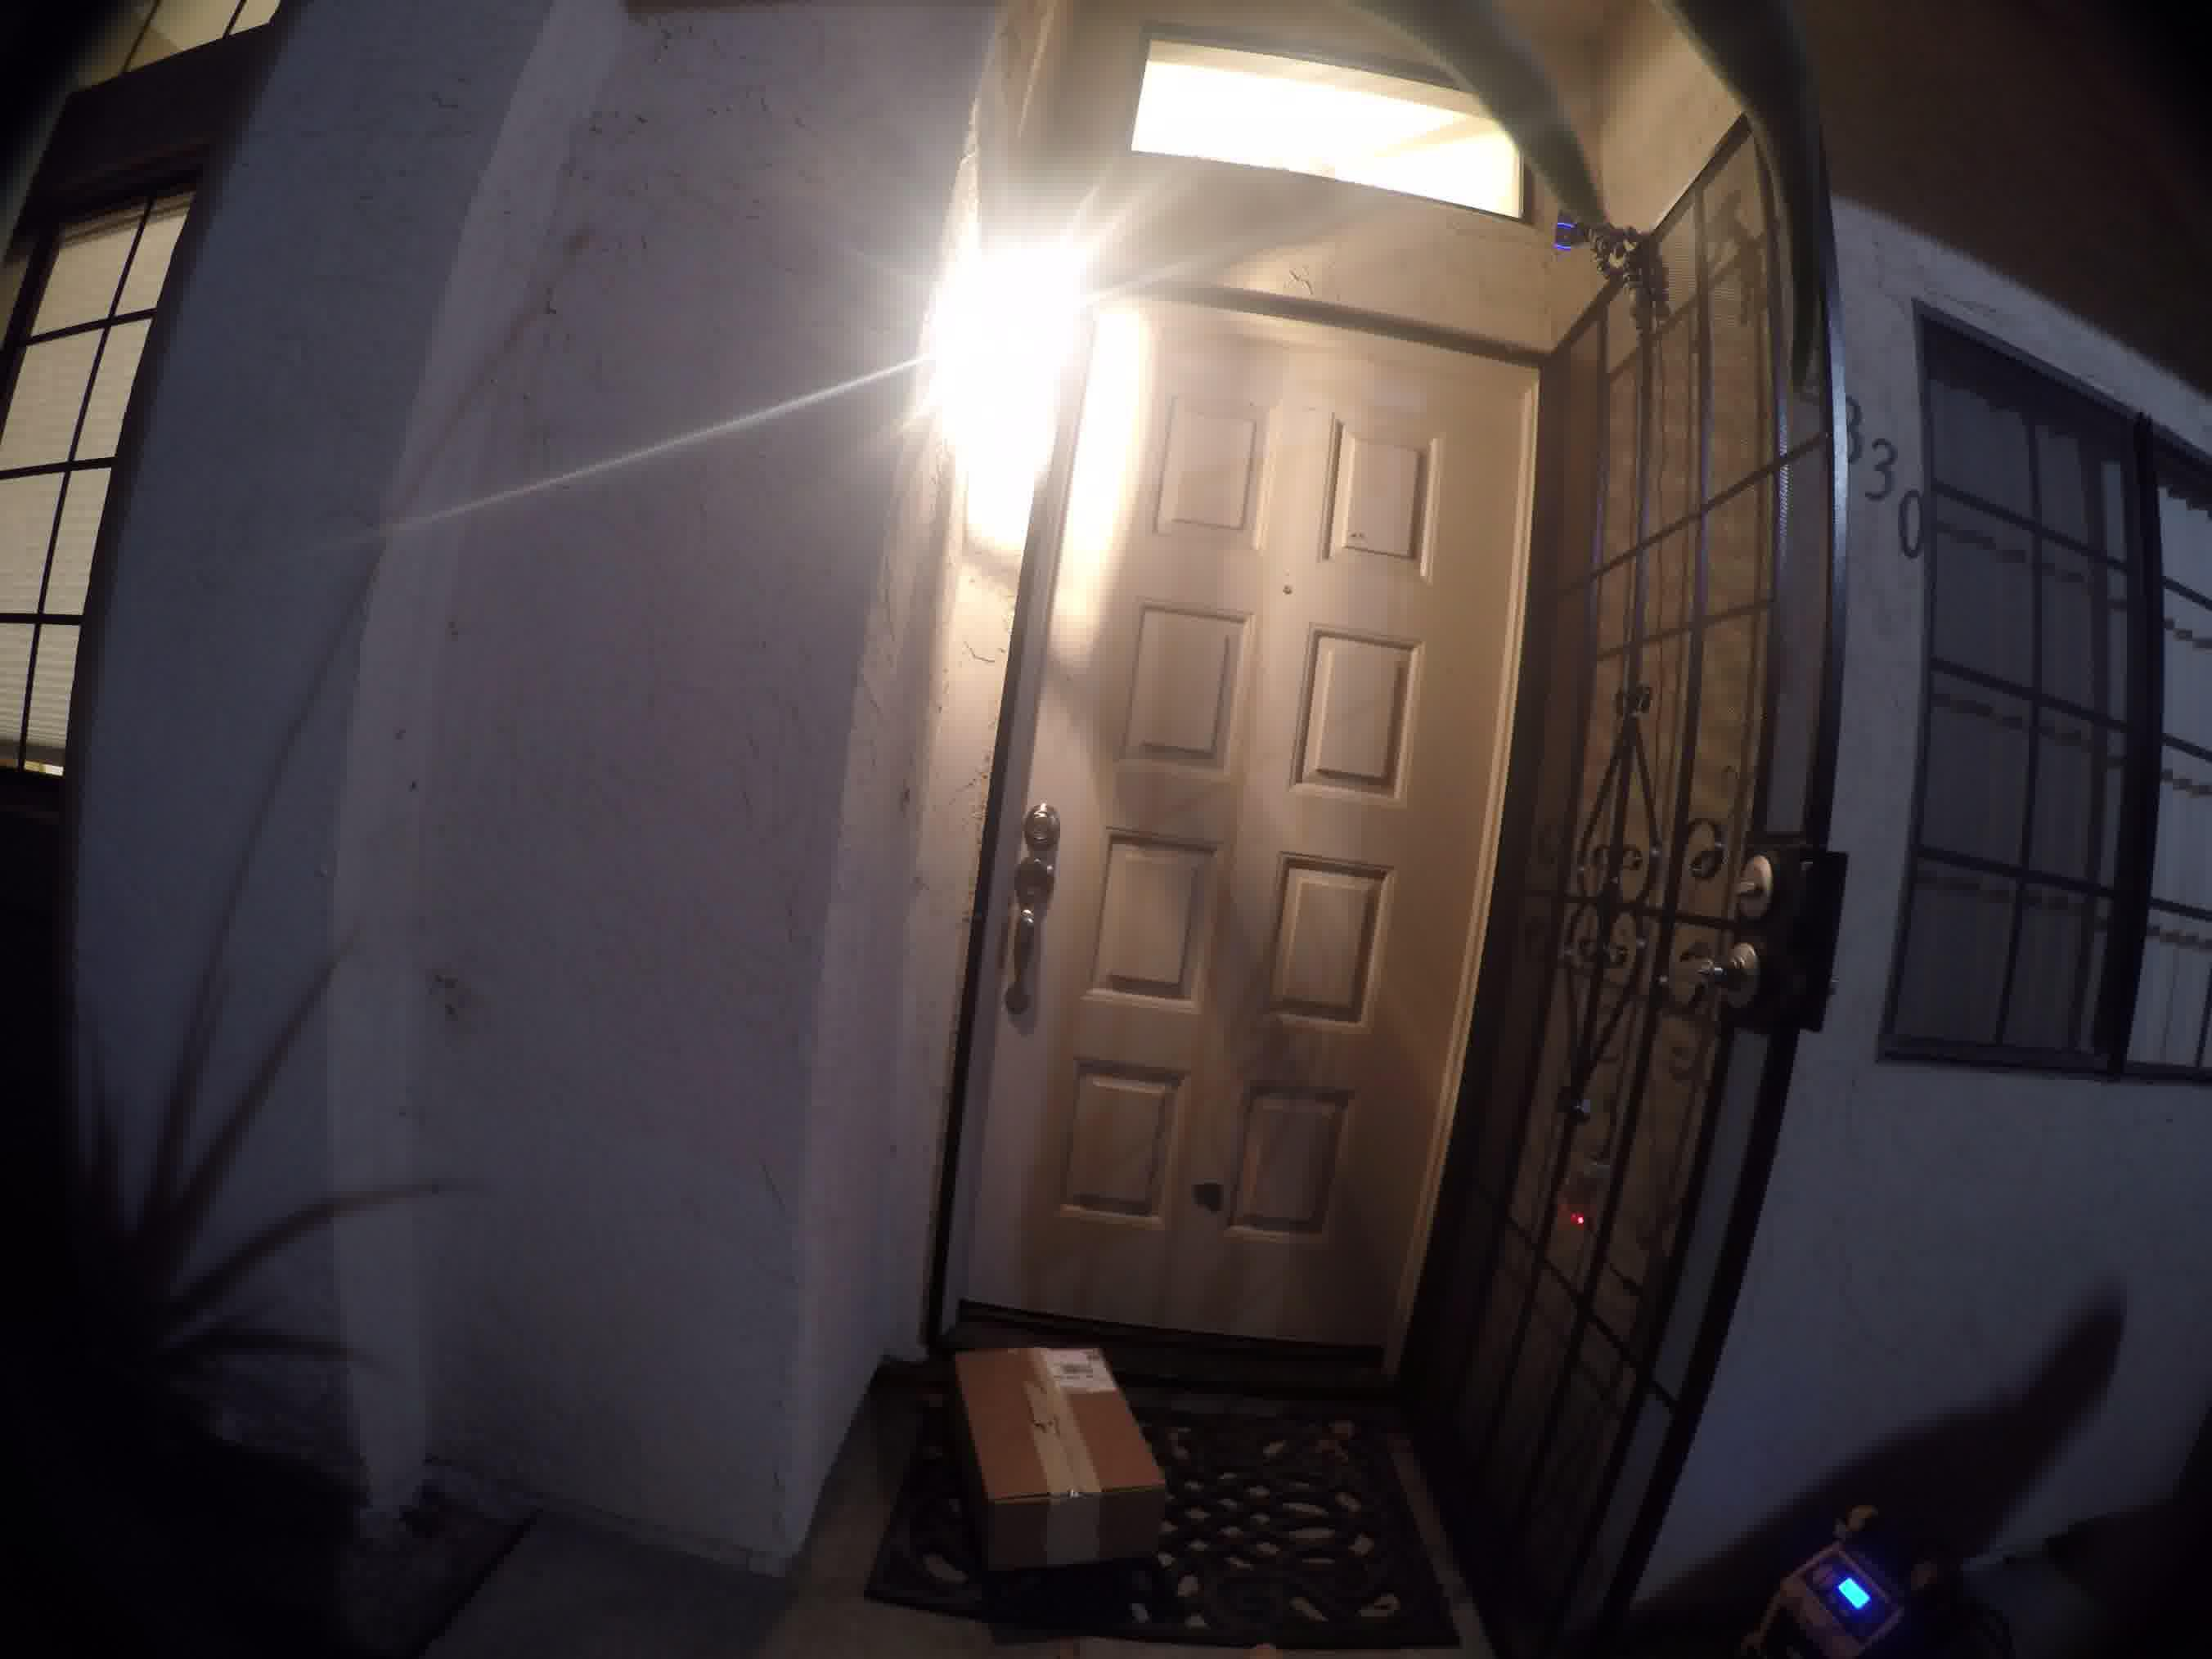box: (935, 1342, 1170, 1579)
